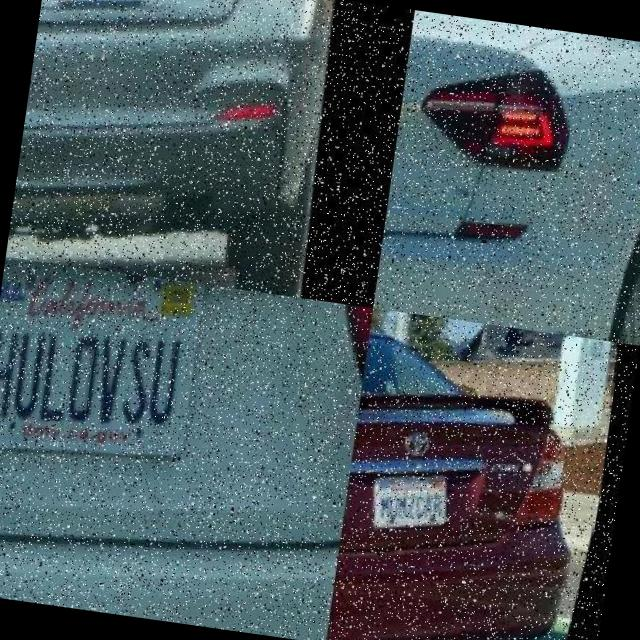LicensePlate: (0, 255, 232, 505), (388, 104, 452, 212), (378, 477, 451, 531), (51, 0, 157, 25)
